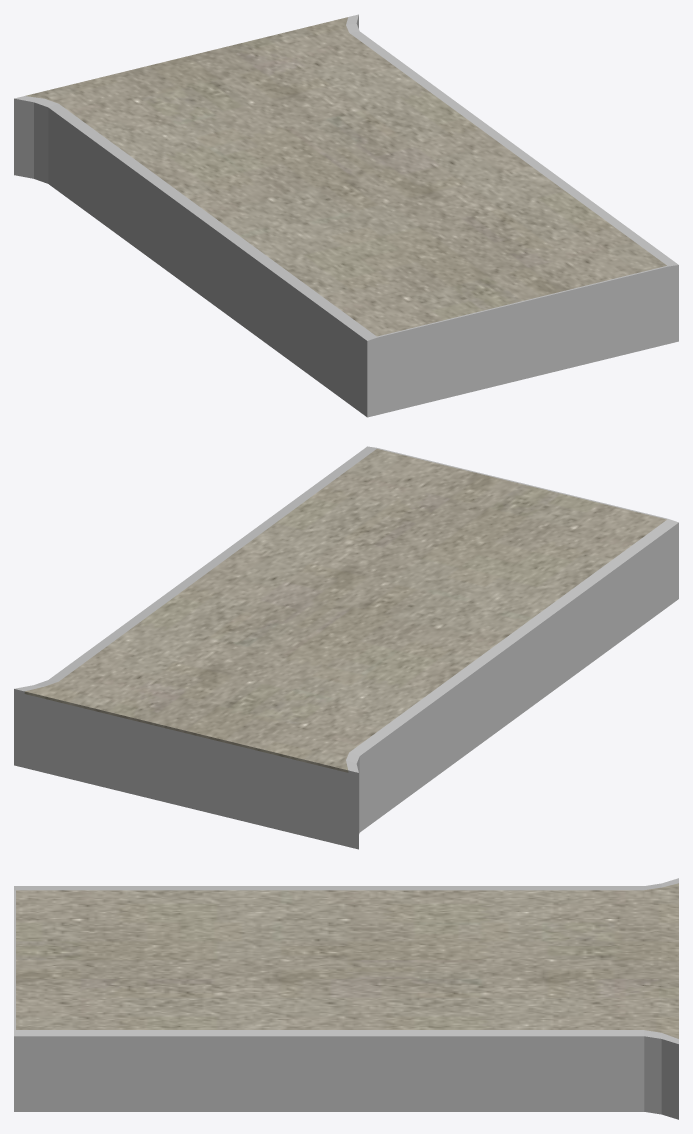
Rendered from road_02b_t01.fbx.
3 views of the same model, one above another, from view 1: azimuth 30°, elevation 25°; view 2: azimuth 150°, elevation 25°; view 3: azimuth 270°, elevation 25° (orthographic).
Parts seen in each view (by area): view 1: road_02b_t01; view 2: road_02b_t01; view 3: road_02b_t01.
Boxes of the visible parts, box(x1,y1,x2,y2) form: road_02b_t01: box(14, 14, 678, 417); road_02b_t01: box(14, 446, 678, 849); road_02b_t01: box(14, 878, 678, 1119).
Size of the model in its own units: 9.32 by 2 by 15.76.
